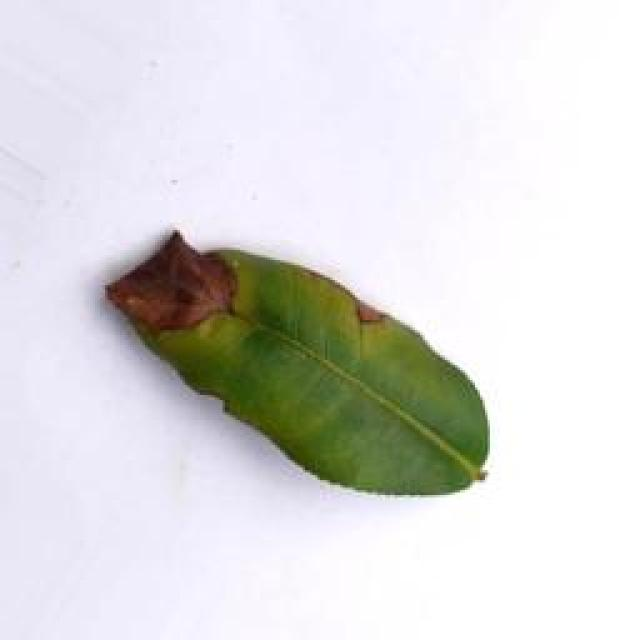Brown Blight: (104, 214, 508, 497)
